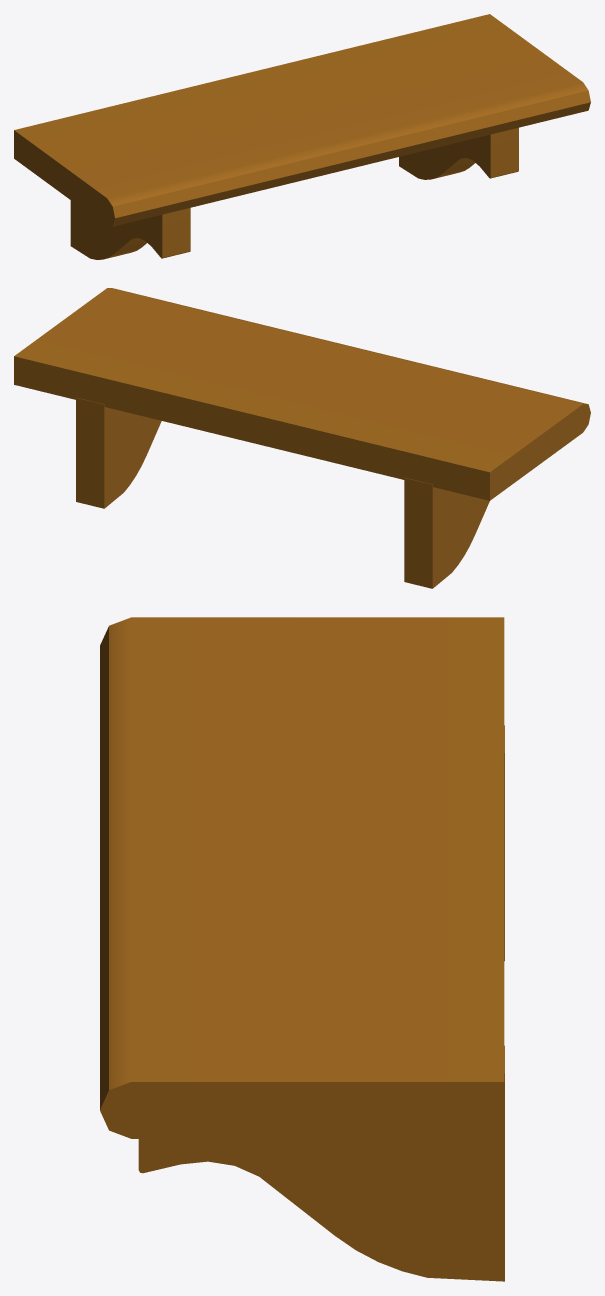
Rendered from Forniture_1.fbx.
The picture shows the model from 3 angles, top to bottom: view 1: azimuth 30°, elevation 25°; view 2: azimuth 150°, elevation 25°; view 3: azimuth 270°, elevation 25°; orthographic projection. The views are drawn at different scales.
Visible parts, largest first — view 1: pCube6; view 2: pCube6; view 3: pCube6.
Boxes of the visible parts, <box> form: pCube6: <box>14,14,590,259</box>; pCube6: <box>14,288,590,588</box>; pCube6: <box>100,617,504,1281</box>.
Bounding box in the file's own units: 1.09 × 0.286 × 0.4032.
